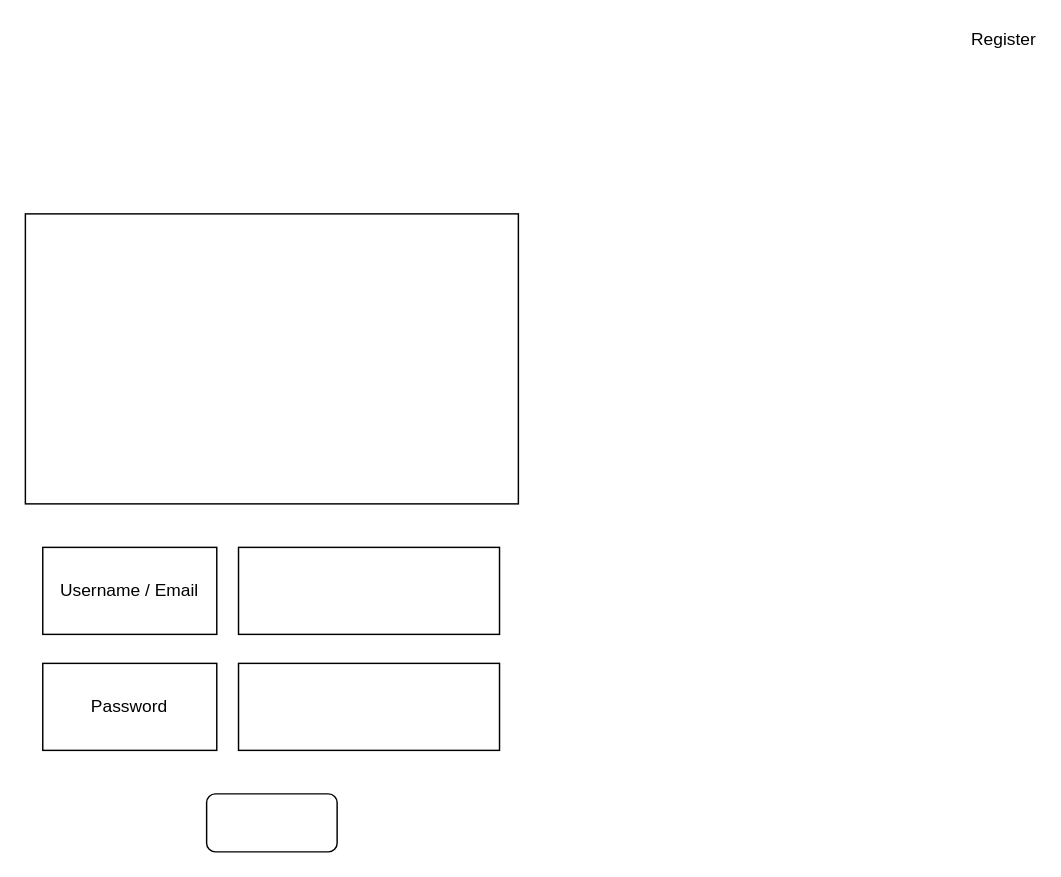
Image size: 1061x877. Some labels were removed from this diagram. The shapes that lost their labels are listed below. From the top down, each one's centre as x and y in pixels, then its label:
pixel 271 358: Reminder
pixel 271 822: Login
